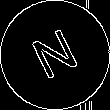N_SE: (26, 24, 84, 86)
